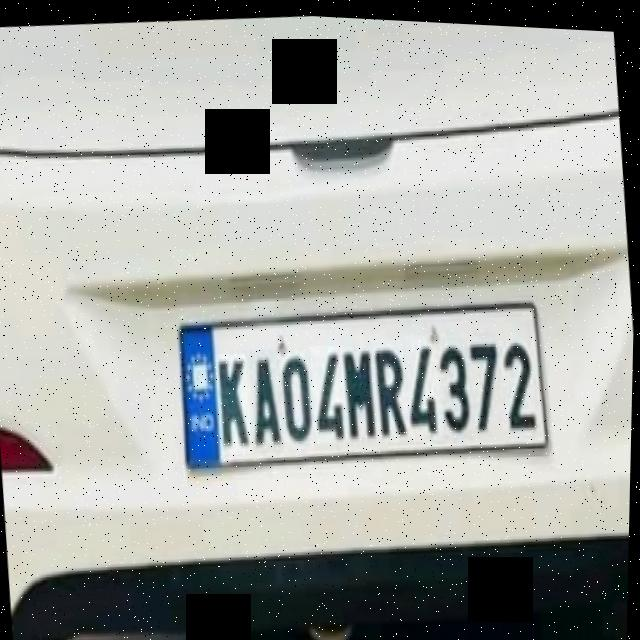0: (277, 346, 320, 448)
3: (438, 331, 478, 436)
4: (404, 328, 447, 437), (310, 339, 351, 441)
7: (466, 324, 507, 433)
A: (247, 344, 289, 451)
K: (215, 349, 256, 453)
M: (336, 334, 384, 440)
R: (371, 332, 413, 439)
